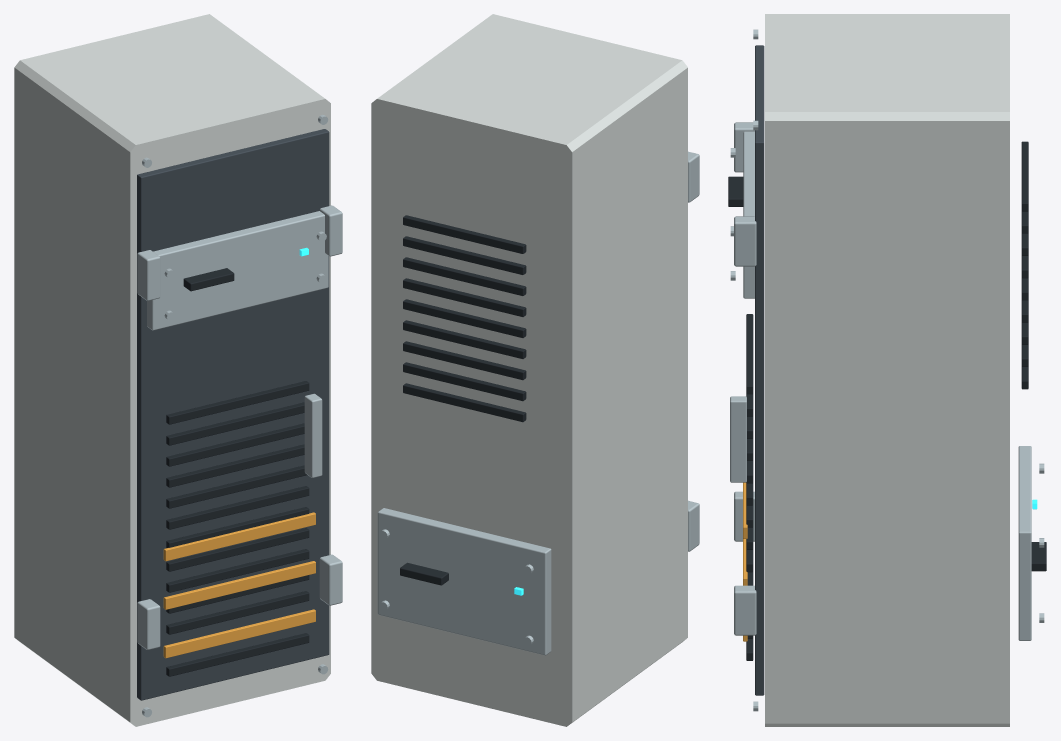
The model's file is data-centre-infiltration-kit-data-centre-infiltration--b2151435__29233.glb.
3 views of the same model, side by side, from view 1: azimuth 30°, elevation 25°; view 2: azimuth 150°, elevation 25°; view 3: azimuth 270°, elevation 25° (orthographic). The views are drawn at different scales.
Visible parts, largest first — view 1: data-centre-infiltration-kit-power-distribution; view 2: data-centre-infiltration-kit-power-distribution; view 3: data-centre-infiltration-kit-power-distribution.
Part boxes in pixels (<box>): data-centre-infiltration-kit-power-distribution: <box>14,14,342,726</box>; data-centre-infiltration-kit-power-distribution: <box>371,14,699,726</box>; data-centre-infiltration-kit-power-distribution: <box>728,14,1046,726</box>.
Bounding box in the file's own units: 0.65 × 1.8 × 0.8451.
